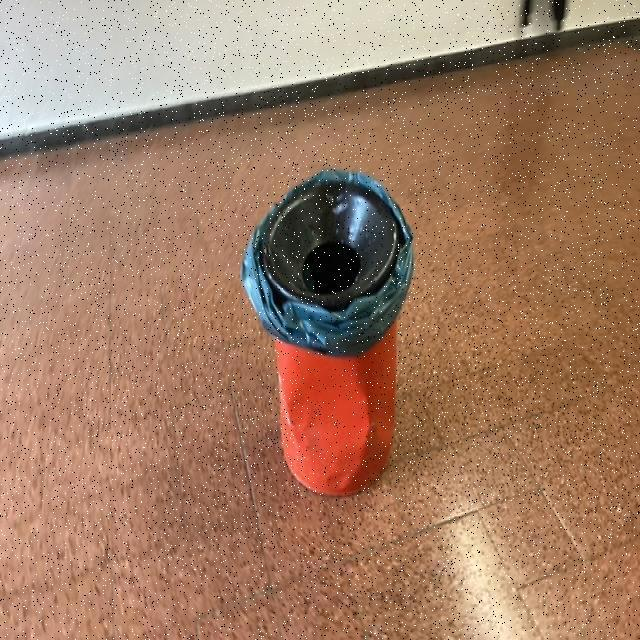garbage container: (214, 135, 438, 516)
